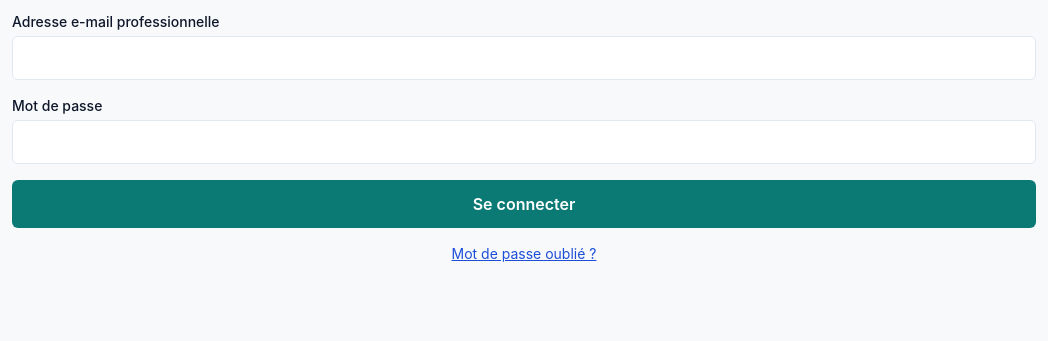
Test: LoginForm › shows a neutral message on invalid credentials
Type "redacteur06@demo.etare.test" into the field labelled "Adresse e-mail professionnelle" at (524, 58), box [12,36,1036,80]
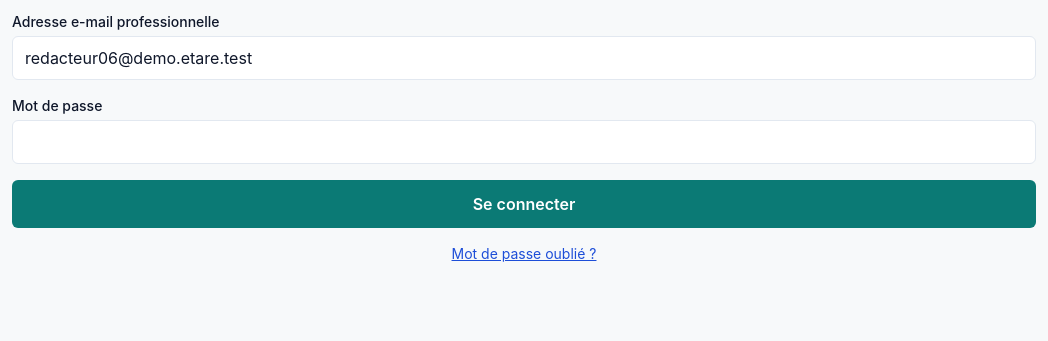
Type "mauvais" into the password field labelled "Mot de passe" at (524, 142), box [12,120,1036,164]
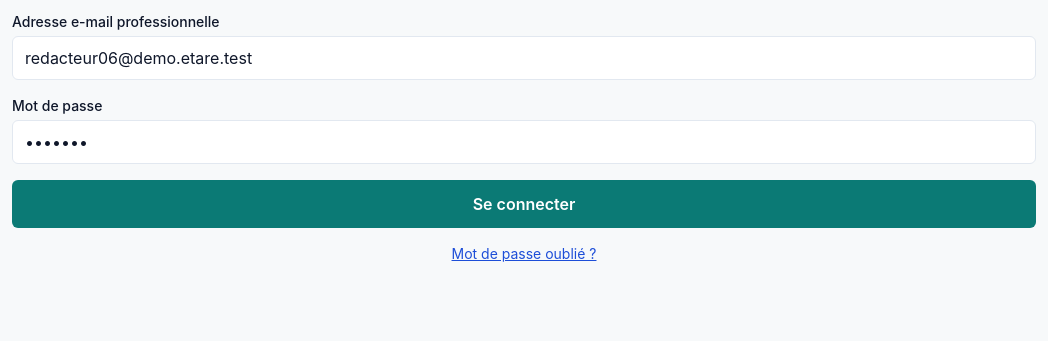
Click the button "Se connecter" at (524, 204), box [12,180,1036,228]
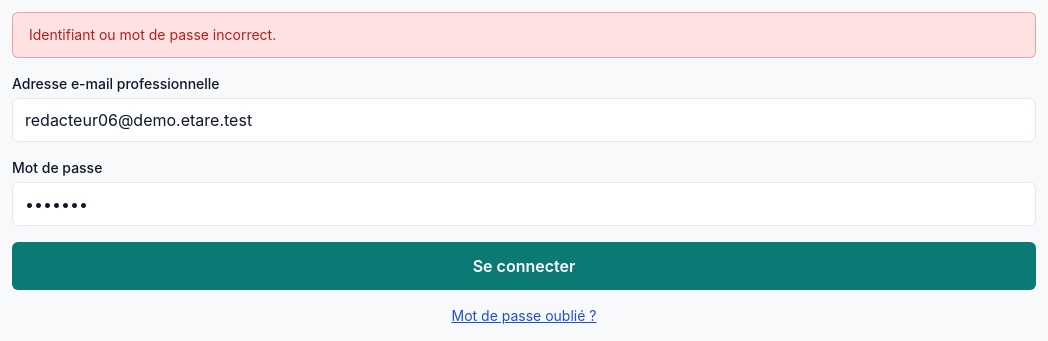
expect the text "Identifiant ou mot de passe incorrect." is shown: met, box [12,12,1036,58]
